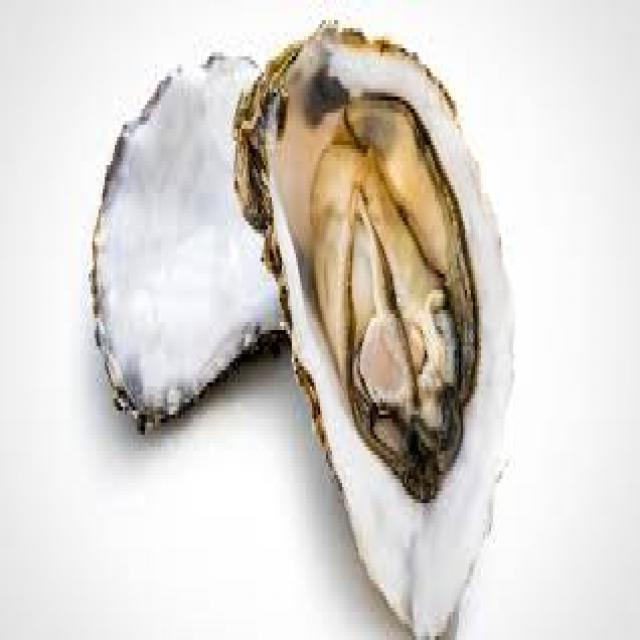Oyster-Open: (234, 24, 512, 640), (10, 44, 344, 431)
